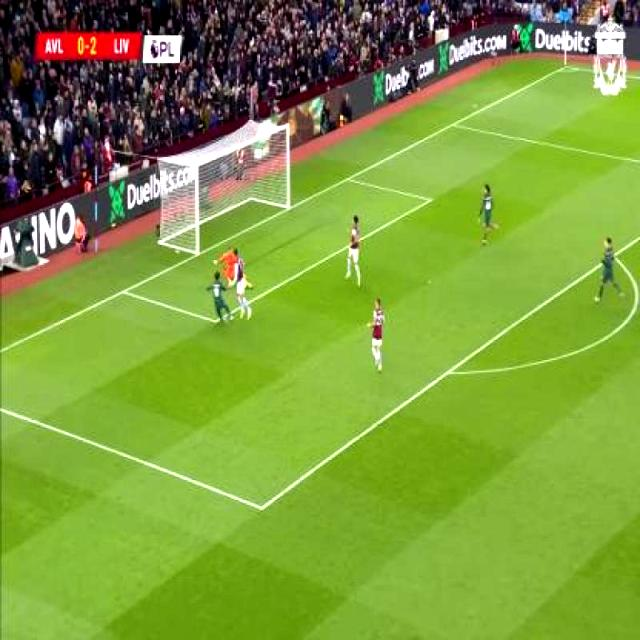bigarea_bottom_inner: (248, 489, 277, 531)
bigarea_top_outter: (443, 100, 469, 150)
bottom_arc_area_intersection: (437, 354, 463, 392)
corner: (555, 56, 580, 78)
smallarea_bottom_outter: (112, 264, 138, 316)
smallarea_top_inner: (418, 183, 444, 217)
smallarea_top_outter: (337, 164, 358, 196)
top_arc_area_intersection: (600, 244, 630, 272)
